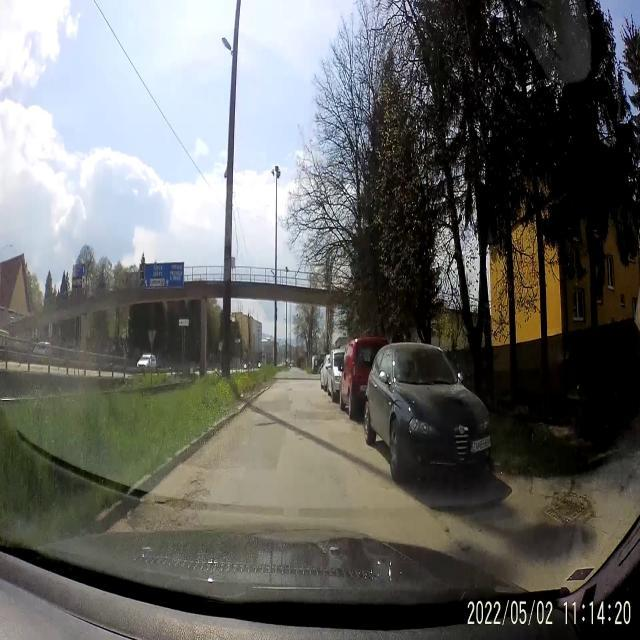Manhole: (539, 495, 593, 523)
Pothole: (156, 488, 209, 516), (188, 474, 214, 496)
